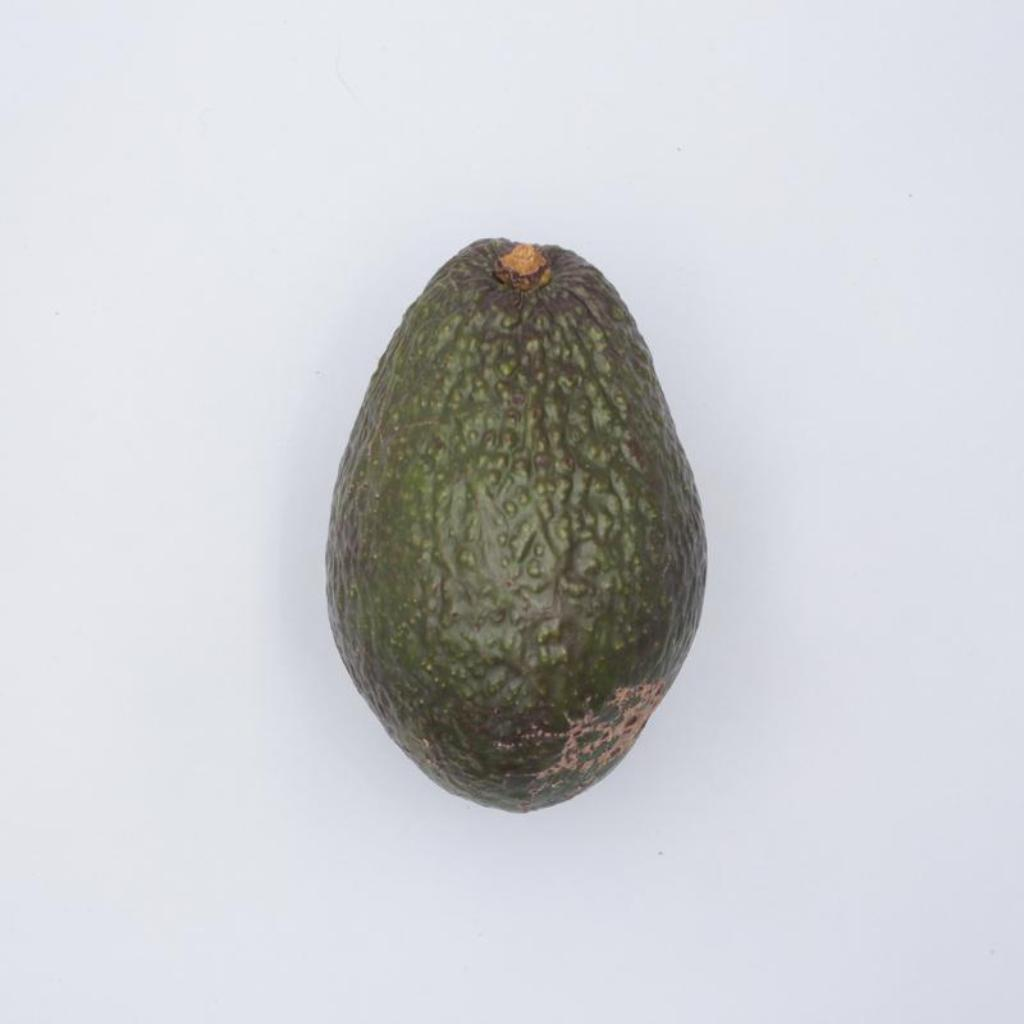healthy: (325, 238, 705, 810)
scab: (0, 0, 1023, 1023), (668, 670, 772, 1024)
